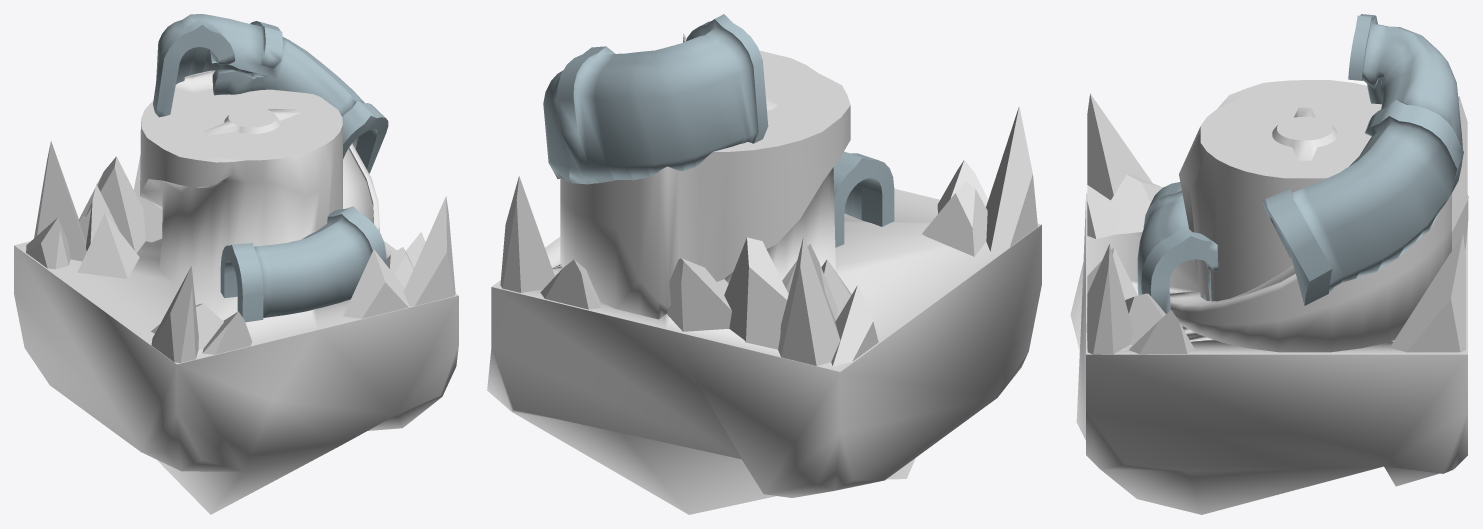
File: smol_shiet.fbx
3 views of the same model, side by side, from view 1: azimuth 30°, elevation 25°; view 2: azimuth 150°, elevation 25°; view 3: azimuth 270°, elevation 25° (orthographic). The views are drawn at different scales.
Parts seen in each view (by area): view 1: Cube, IceCrystals, BézierCurve.001, BézierCurve; view 2: Cube, IceCrystals, BézierCurve.001, BézierCurve; view 3: Cube, BézierCurve.001, IceCrystals, BézierCurve.
Part boxes in pixels (left/top/right/bottom): Cube: left=14, top=70, right=458, bottom=514; IceCrystals: left=26, top=141, right=455, bottom=362; BézierCurve.001: left=153, top=14, right=388, bottom=173; BézierCurve: left=220, top=206, right=386, bottom=322; Cube: left=487, top=50, right=1041, bottom=514; IceCrystals: left=500, top=34, right=1037, bottom=366; BézierCurve.001: left=543, top=14, right=768, bottom=184; BézierCurve: left=833, top=151, right=894, bottom=247; Cube: left=1070, top=80, right=1467, bottom=514; BézierCurve.001: left=1262, top=14, right=1463, bottom=305; IceCrystals: left=1086, top=93, right=1468, bottom=354; BézierCurve: left=1137, top=182, right=1218, bottom=313.
Bounding box in the file's own units: 211 × 282 × 208.
